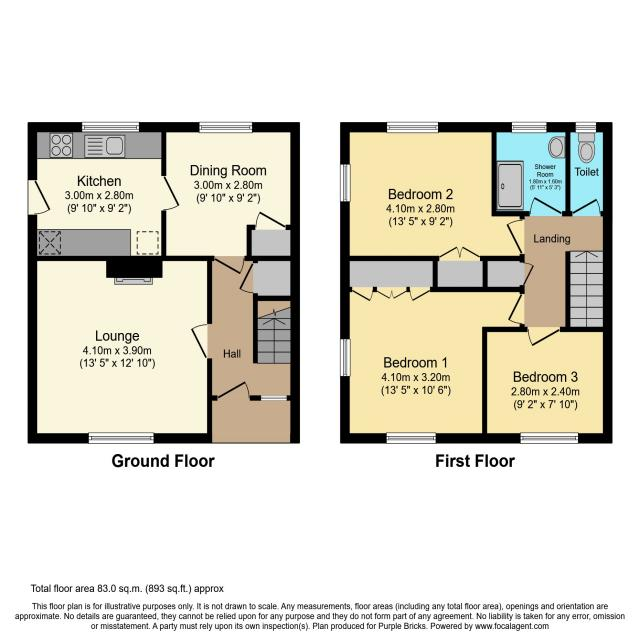DOOR: (27, 179, 52, 216), (189, 322, 213, 360), (526, 327, 562, 349), (505, 218, 525, 256), (161, 175, 181, 212), (216, 380, 251, 401), (529, 196, 563, 217), (213, 255, 245, 275), (506, 292, 525, 325), (571, 197, 601, 217)
ROOM: (27, 255, 213, 444), (340, 255, 525, 444), (339, 121, 525, 261), (27, 122, 181, 261), (161, 122, 300, 275), (481, 326, 613, 444)
WINDOW: (88, 431, 155, 445), (519, 431, 580, 445), (81, 121, 140, 133), (386, 121, 439, 134), (199, 122, 253, 134), (386, 432, 437, 444), (339, 163, 352, 203), (339, 338, 351, 377), (511, 121, 547, 134), (575, 121, 597, 134), (260, 395, 287, 401)
